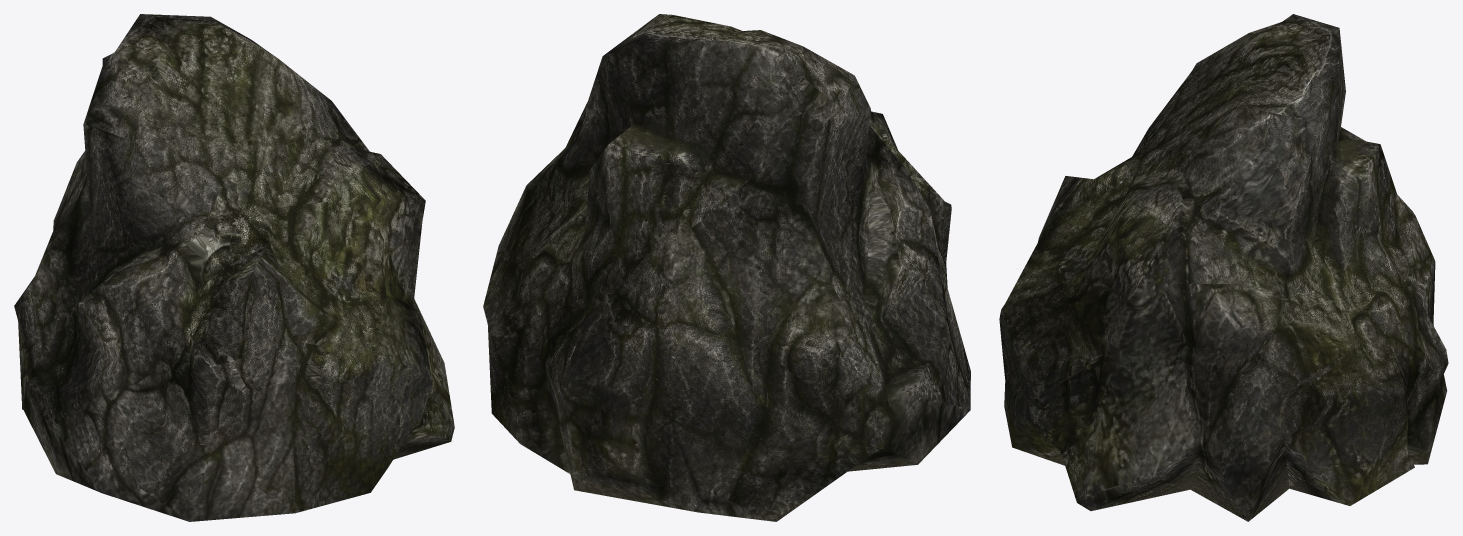
The picture shows the model from 3 angles, left to right: view 1: azimuth 30°, elevation 25°; view 2: azimuth 150°, elevation 25°; view 3: azimuth 270°, elevation 25°; orthographic projection. The views are drawn at different scales.
Bounding box in the file's own units: 56333 × 57230 × 58319.
Materials: 1 (1 with a texture image).
